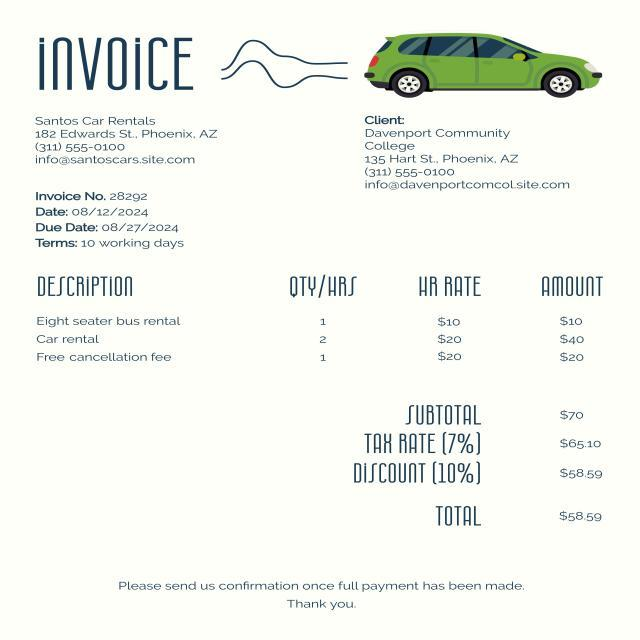customer_address: (359, 140, 526, 166)
customer_name: (361, 125, 518, 141)
due_date: (100, 220, 182, 237)
invoice_date: (72, 204, 151, 220)
invoice_number: (106, 188, 152, 204)
invoice_subtotal: (554, 405, 598, 426)
invoice_total: (553, 503, 608, 527)
item_description: (31, 311, 190, 370)
item_quantity: (309, 306, 337, 374)
item_total_price: (555, 311, 588, 367)
item_unit_price: (430, 311, 467, 367)
supplier_address: (32, 127, 226, 142)
supplier_name: (31, 112, 159, 129)
tax_amount: (555, 430, 605, 457)
tax_rate: (446, 428, 472, 458)
